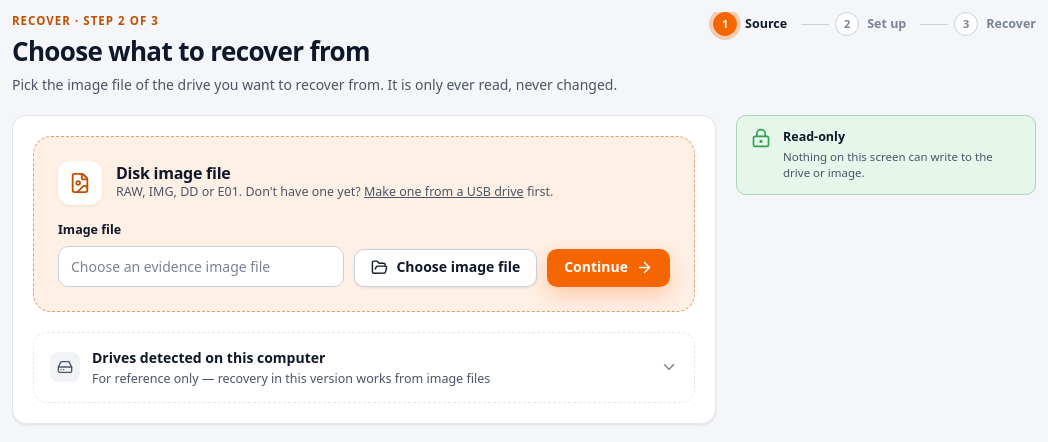
Test: live renderer pages › fills the evidence path from the native image picker
Step 1. Click the button "Choose image file" → (446, 268), box [354,248,537,286]
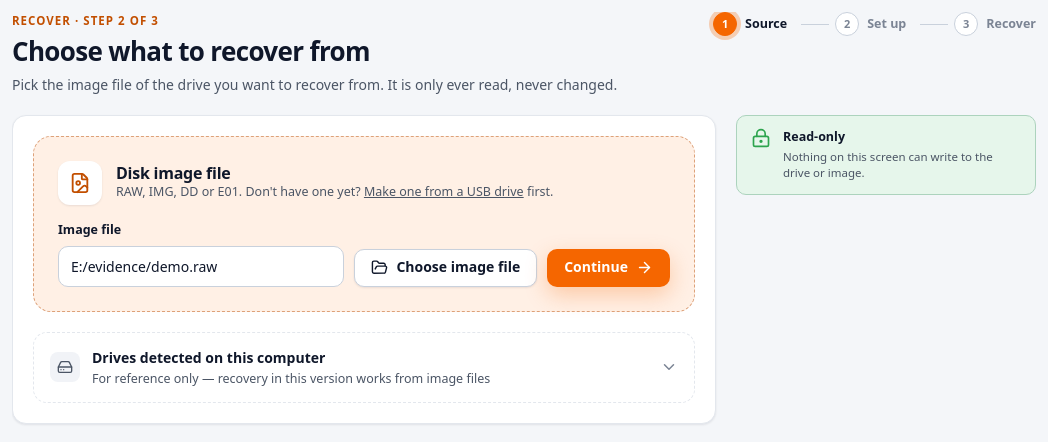
Expected: the field labelled "Image file" holds "E:/evidence/demo.raw", [58,246,344,286]
